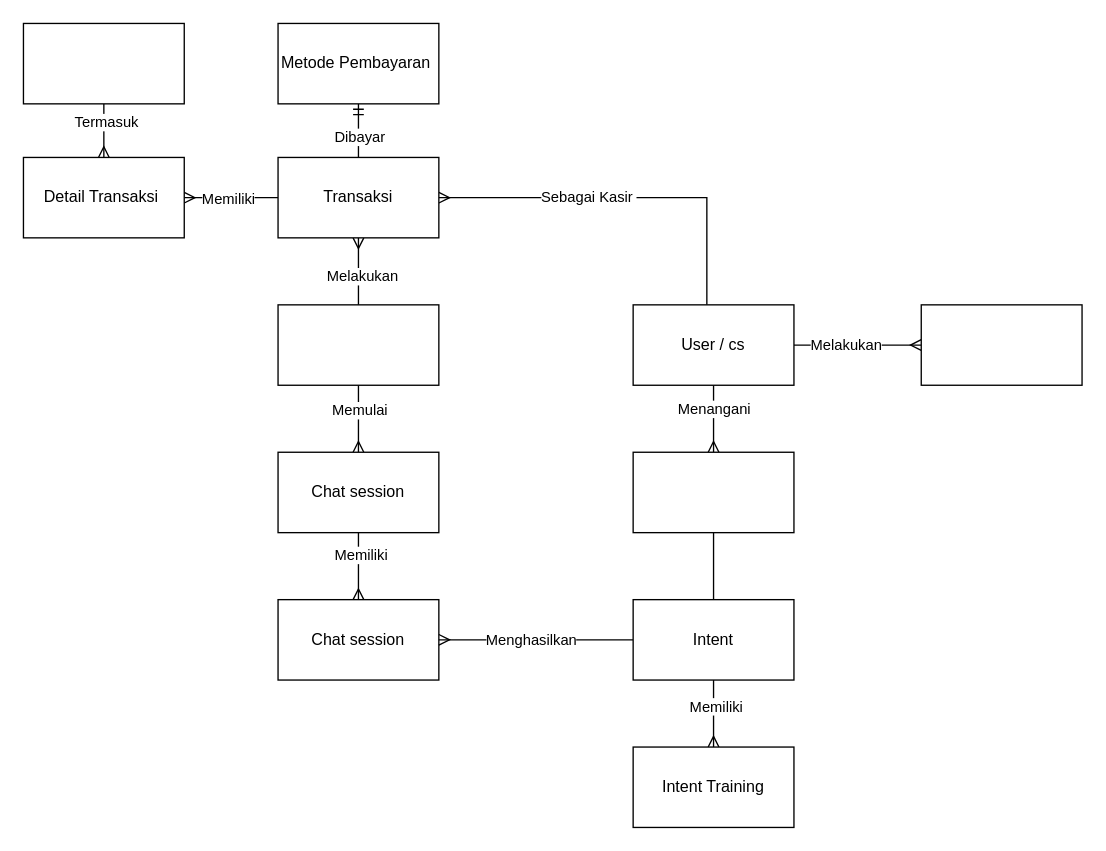
This 1106x851 diagram has some shape labels left out. Here are the shapes that lost their labels. From the top down, the box of each, then its label:
(22, 22, 184, 104): Produk
(277, 304, 439, 385): Pelanggan
(920, 304, 1082, 385): Log Aktivitas
(632, 451, 794, 533): Eskalasi
